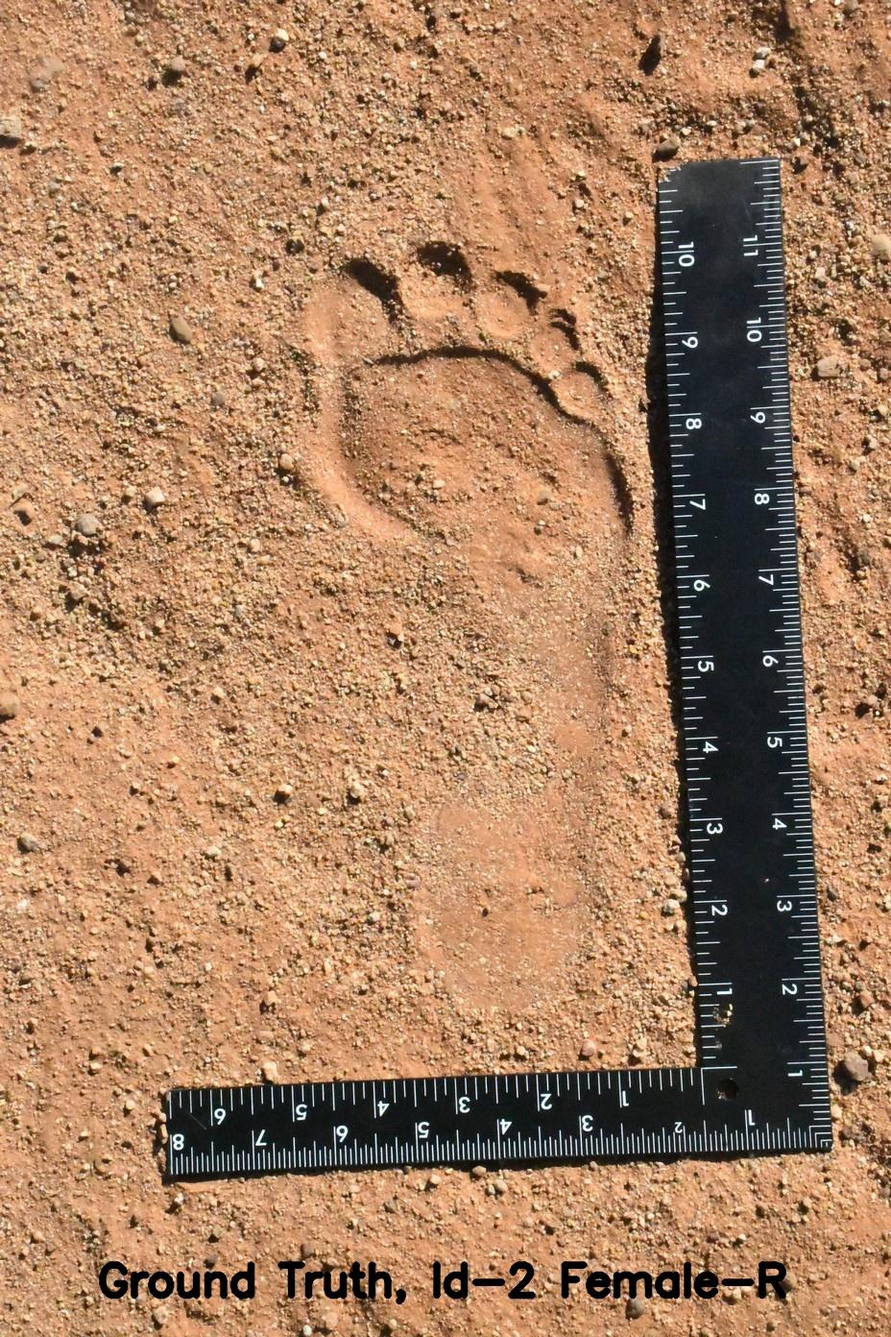human_foot_print: (247, 202, 656, 1040)
